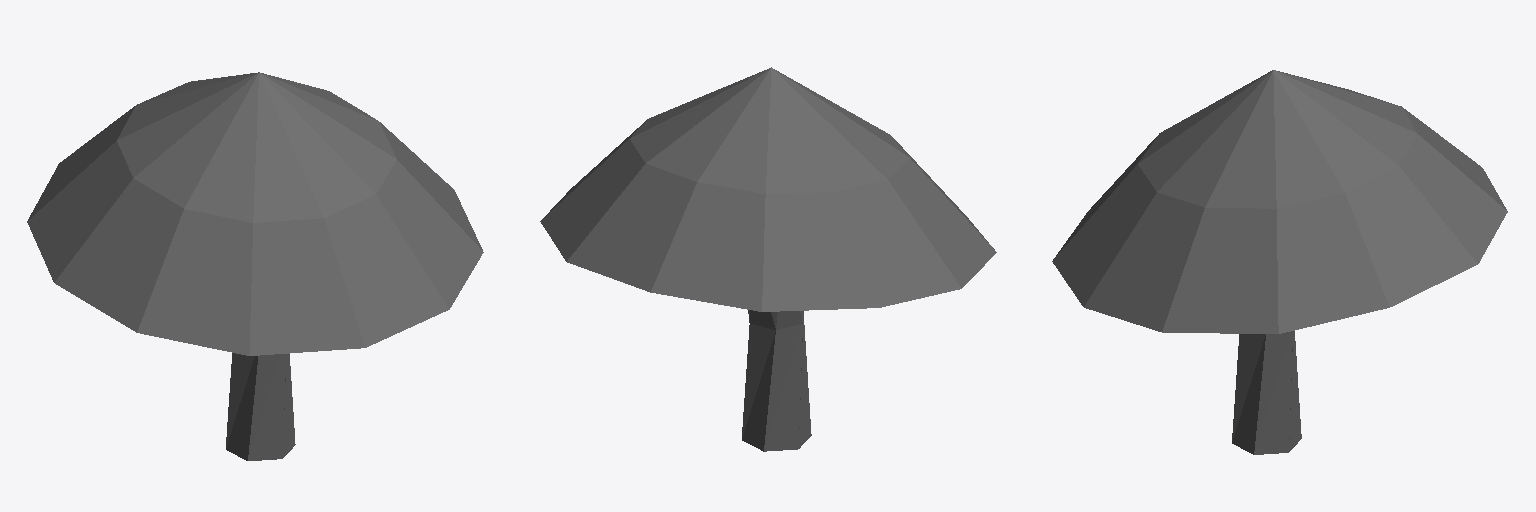
Rendered from Mushroom_3.obj.
The picture shows the model from 3 angles: view 1: azimuth 30°, elevation 25°; view 2: azimuth 150°, elevation 25°; view 3: azimuth 270°, elevation 25°; orthographic projection.
Visible parts, largest first — view 1: Cylinder011; view 2: Cylinder011; view 3: Cylinder011.
Part boxes in pixels (left/top/right/bottom): Cylinder011: left=27, top=72, right=483, bottom=460; Cylinder011: left=540, top=67, right=996, bottom=451; Cylinder011: left=1052, top=70, right=1507, bottom=454.
Bounding box in the file's own units: 0.7272 × 0.6534 × 0.7253.